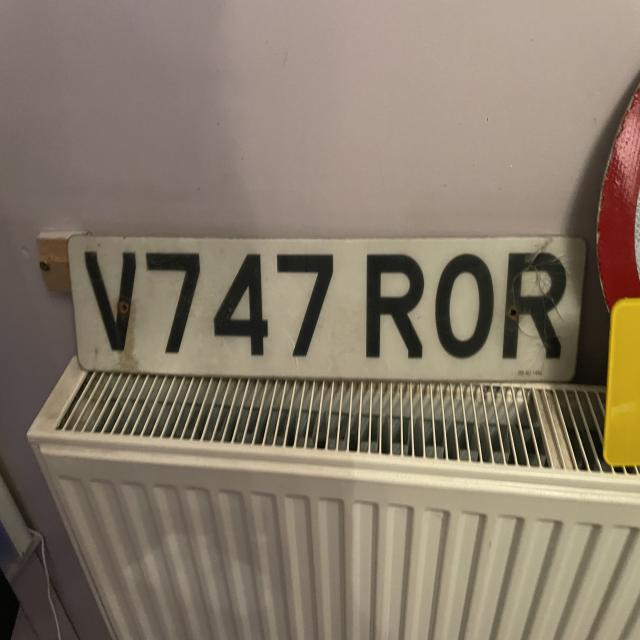registration-plate: (52, 228, 588, 386)
